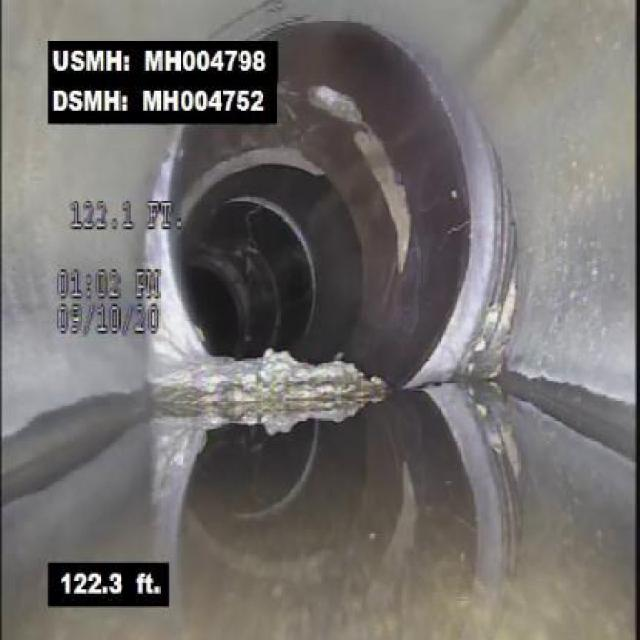Debris: (175, 345, 391, 412)
Joint offset: (405, 68, 512, 392)
